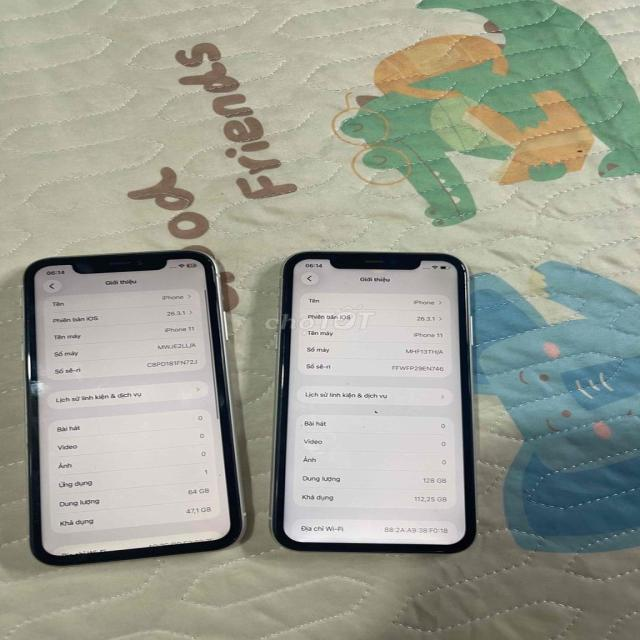gen_11: (264, 236, 486, 567)
